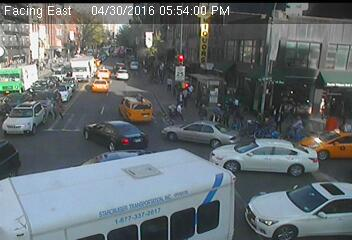neg: (173, 199, 198, 233), (298, 196, 320, 226), (313, 40, 334, 68), (71, 116, 91, 144), (255, 56, 275, 83), (14, 110, 34, 137), (218, 172, 237, 198), (168, 51, 187, 76), (305, 65, 323, 88), (86, 75, 103, 98), (128, 125, 145, 147), (222, 61, 238, 83), (4, 66, 20, 87), (140, 94, 156, 115), (134, 27, 150, 47), (124, 58, 139, 78), (59, 30, 73, 49), (7, 28, 21, 46), (101, 25, 114, 43), (26, 23, 37, 37)
pos: (288, 115, 310, 144), (194, 102, 213, 127), (271, 110, 290, 135), (314, 98, 333, 123), (220, 107, 238, 131), (209, 103, 226, 127), (49, 96, 66, 119), (163, 75, 178, 95), (164, 102, 179, 122), (173, 102, 188, 121)
